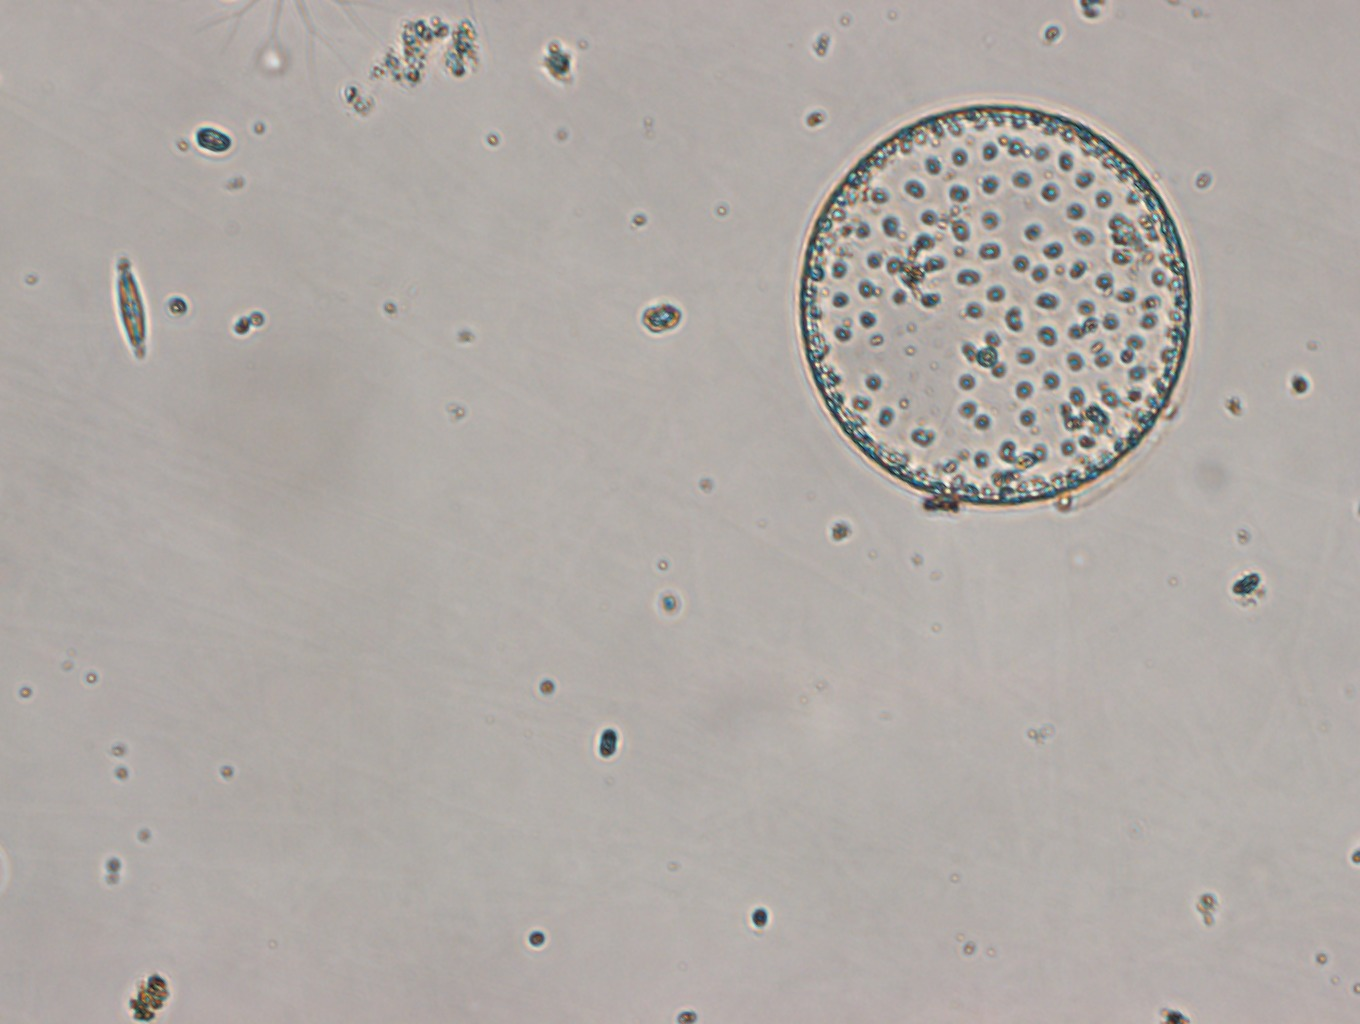coscinodiscus: (797, 100, 1192, 510)
navicula: (113, 251, 149, 362)
